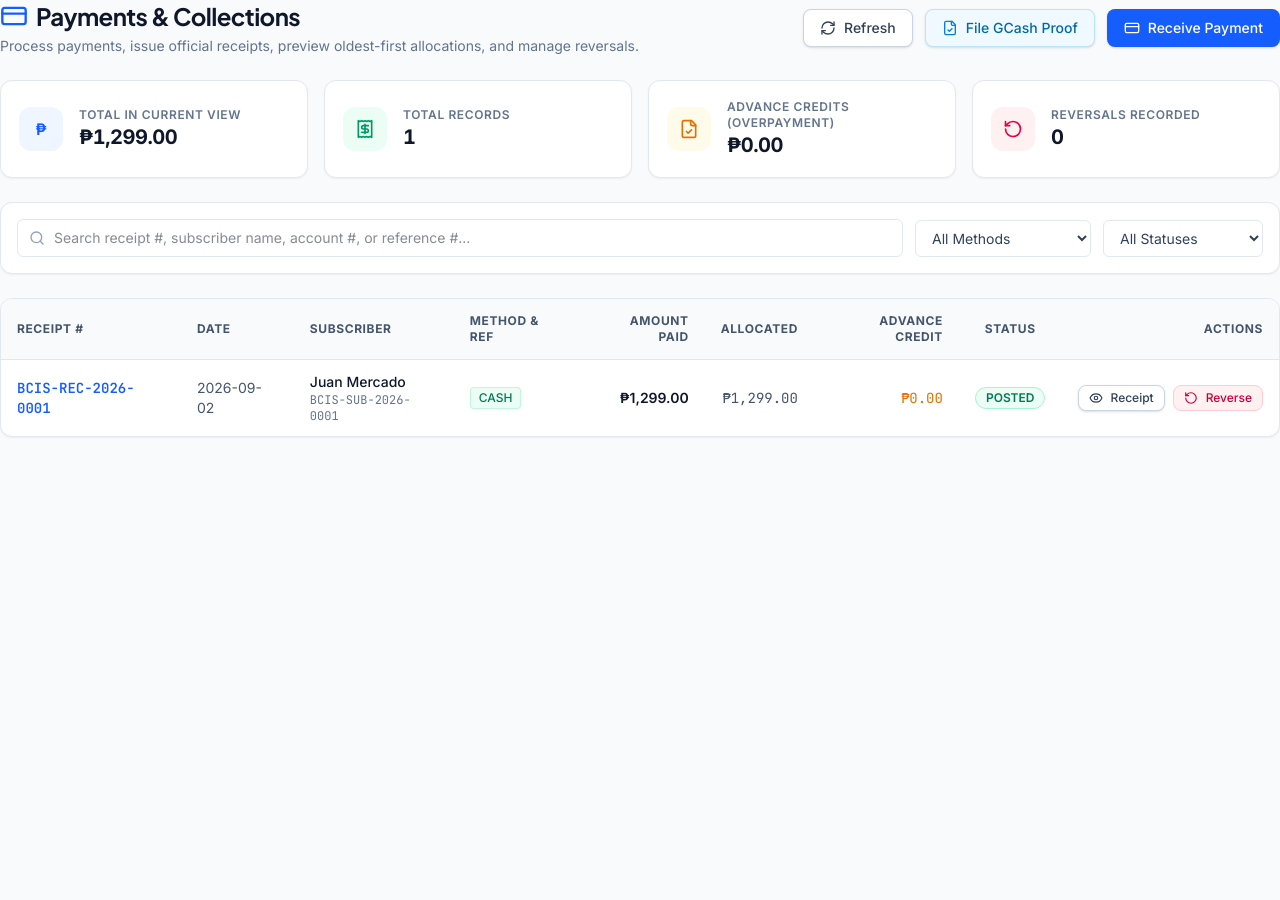
Scenario: PaymentsPage Component (Phase 4 - AT-01 to AT-06) › calculates live oldest-first preview when subscriber and amount are entered
Click the button "Receive Payment".
click(1193, 28)  # box [1107,9,1279,47]
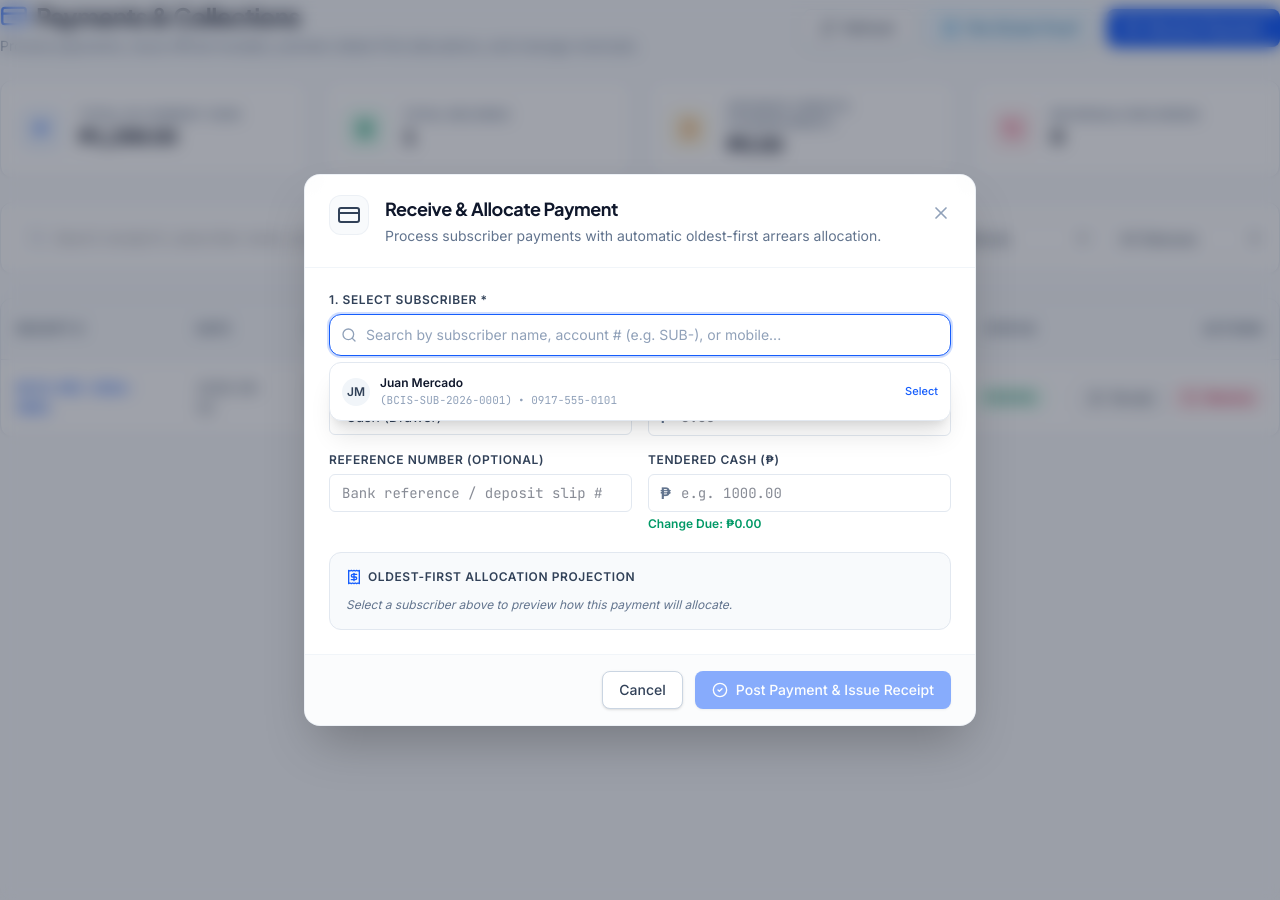
Check: the text "(BCIS-SUB-2026-0001)" is shown
Click the text "(BCIS-SUB-2026-0001)".
click(383, 400)  # box [380,393,512,407]
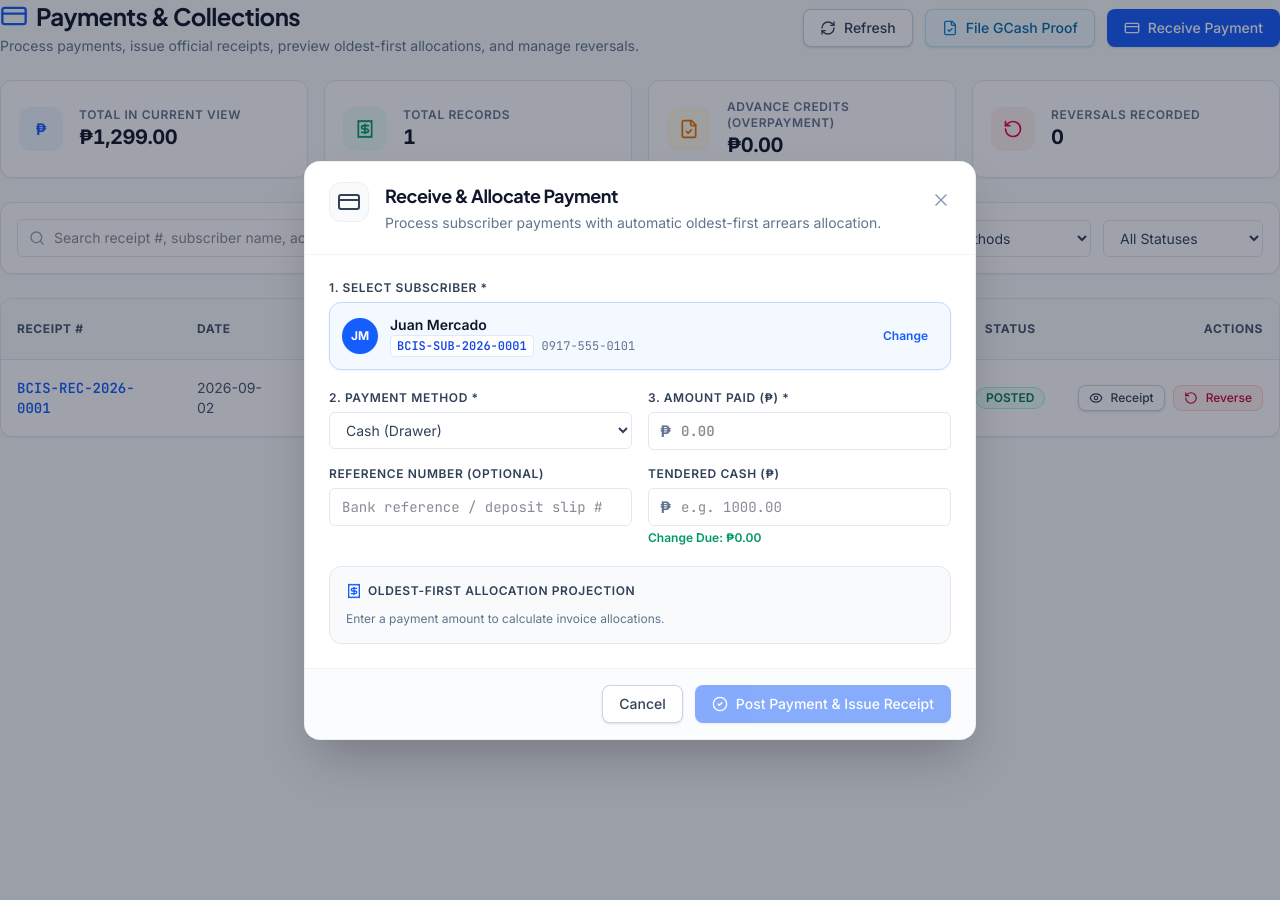
// Type payment amount
Type "1299.00" into the number field with placeholder "0.00".
click(800, 430); type("1299.00")  # box [648,411,951,449]
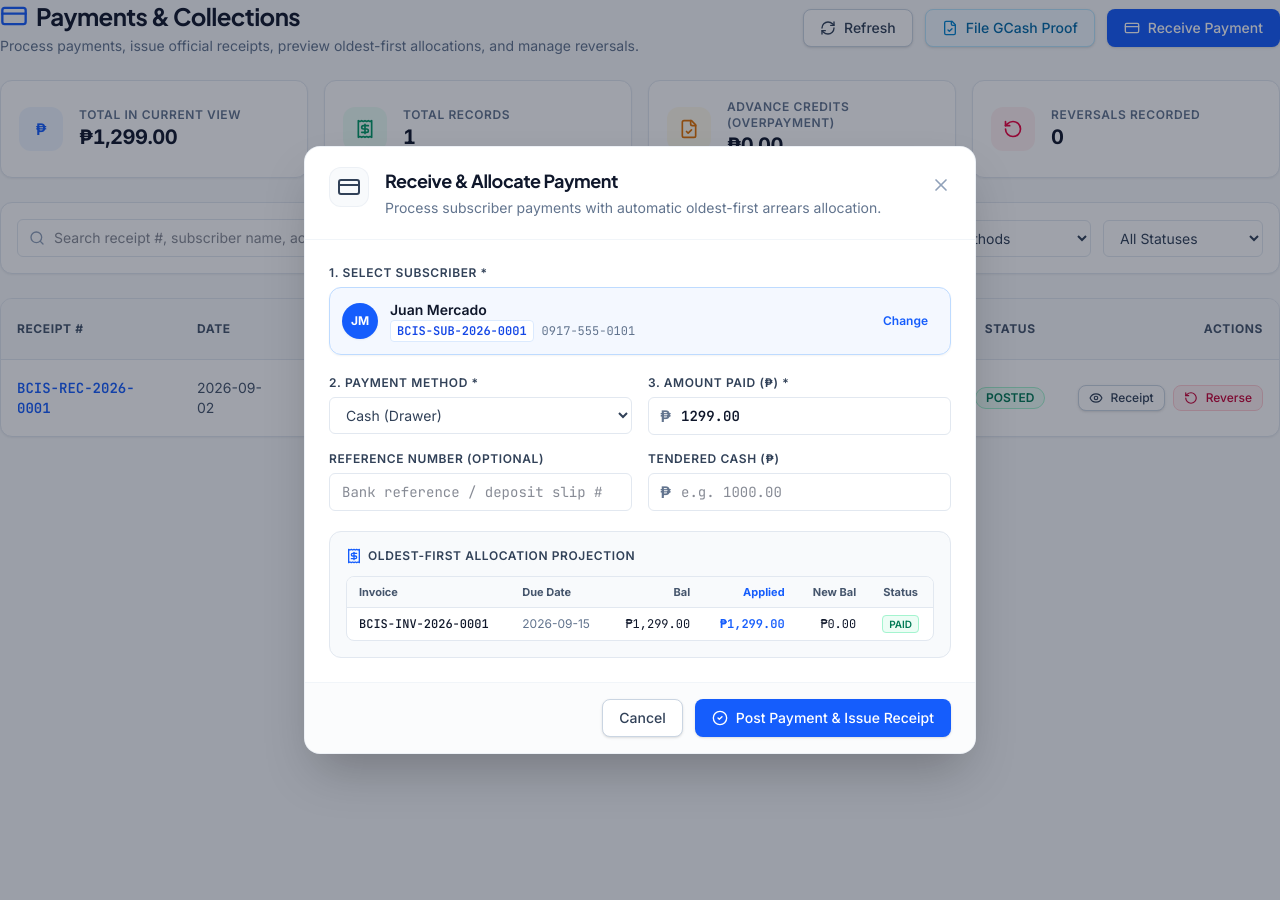
Check: the text "BCIS-INV-2026-0001" is shown, box [347,608,510,640]
